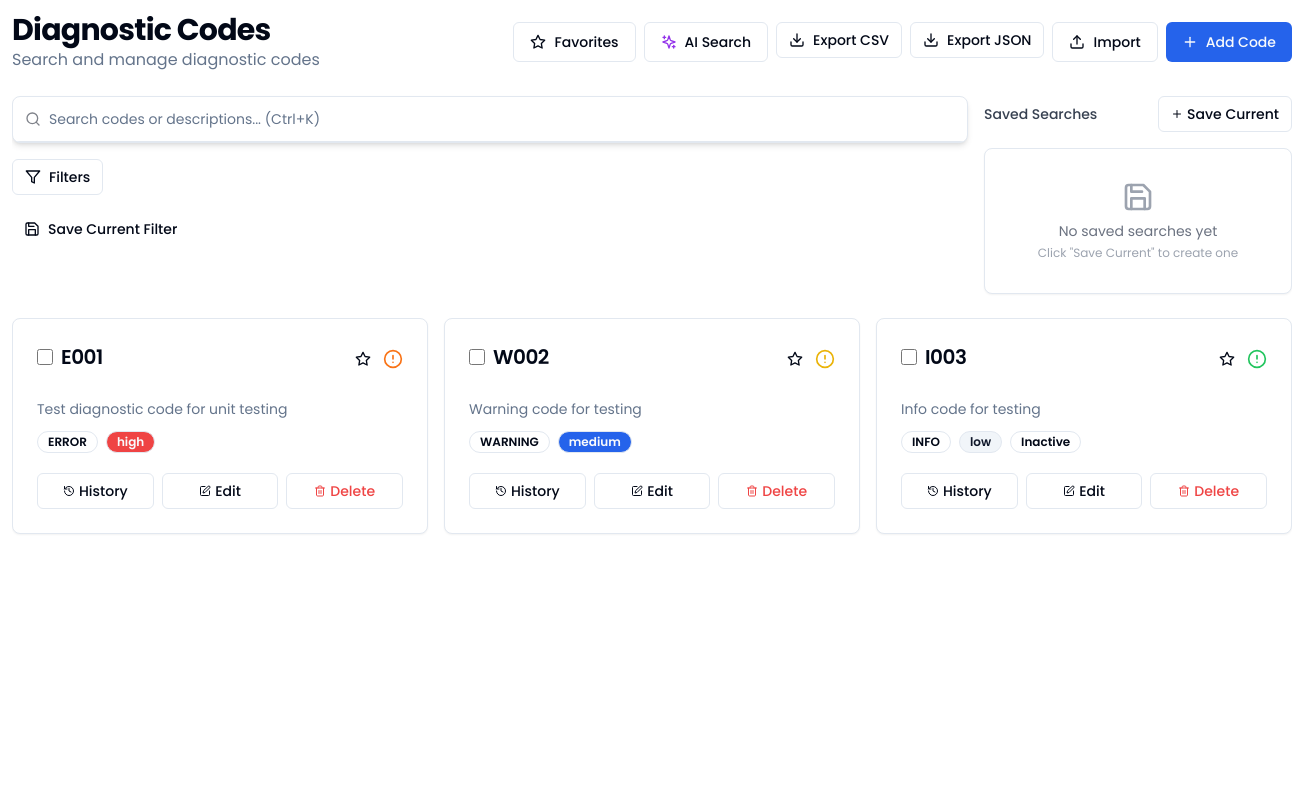
it: HomePage › renders BulkActionsBar when items are available
Expected: the text "selected" is not shown
Select one item to make BulkActionsBar appear
Click the checkbox next to "E001" at (45, 357), box top-left (37, 349), bottom-right (53, 365)
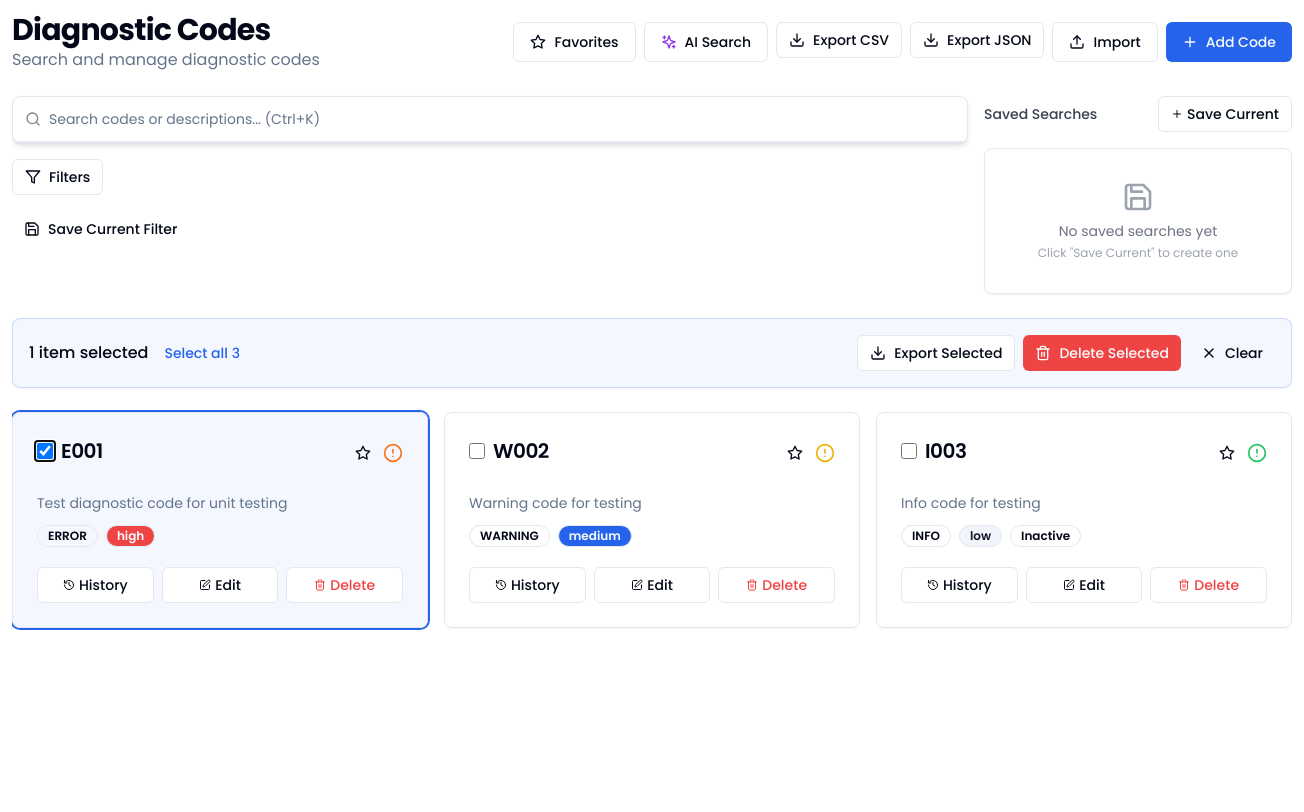
Expected: the text "1 item selected" is shown, top-left (29, 341), bottom-right (148, 365)
Expected: the button "Select all 3" is shown, top-left (164, 343), bottom-right (240, 363)
